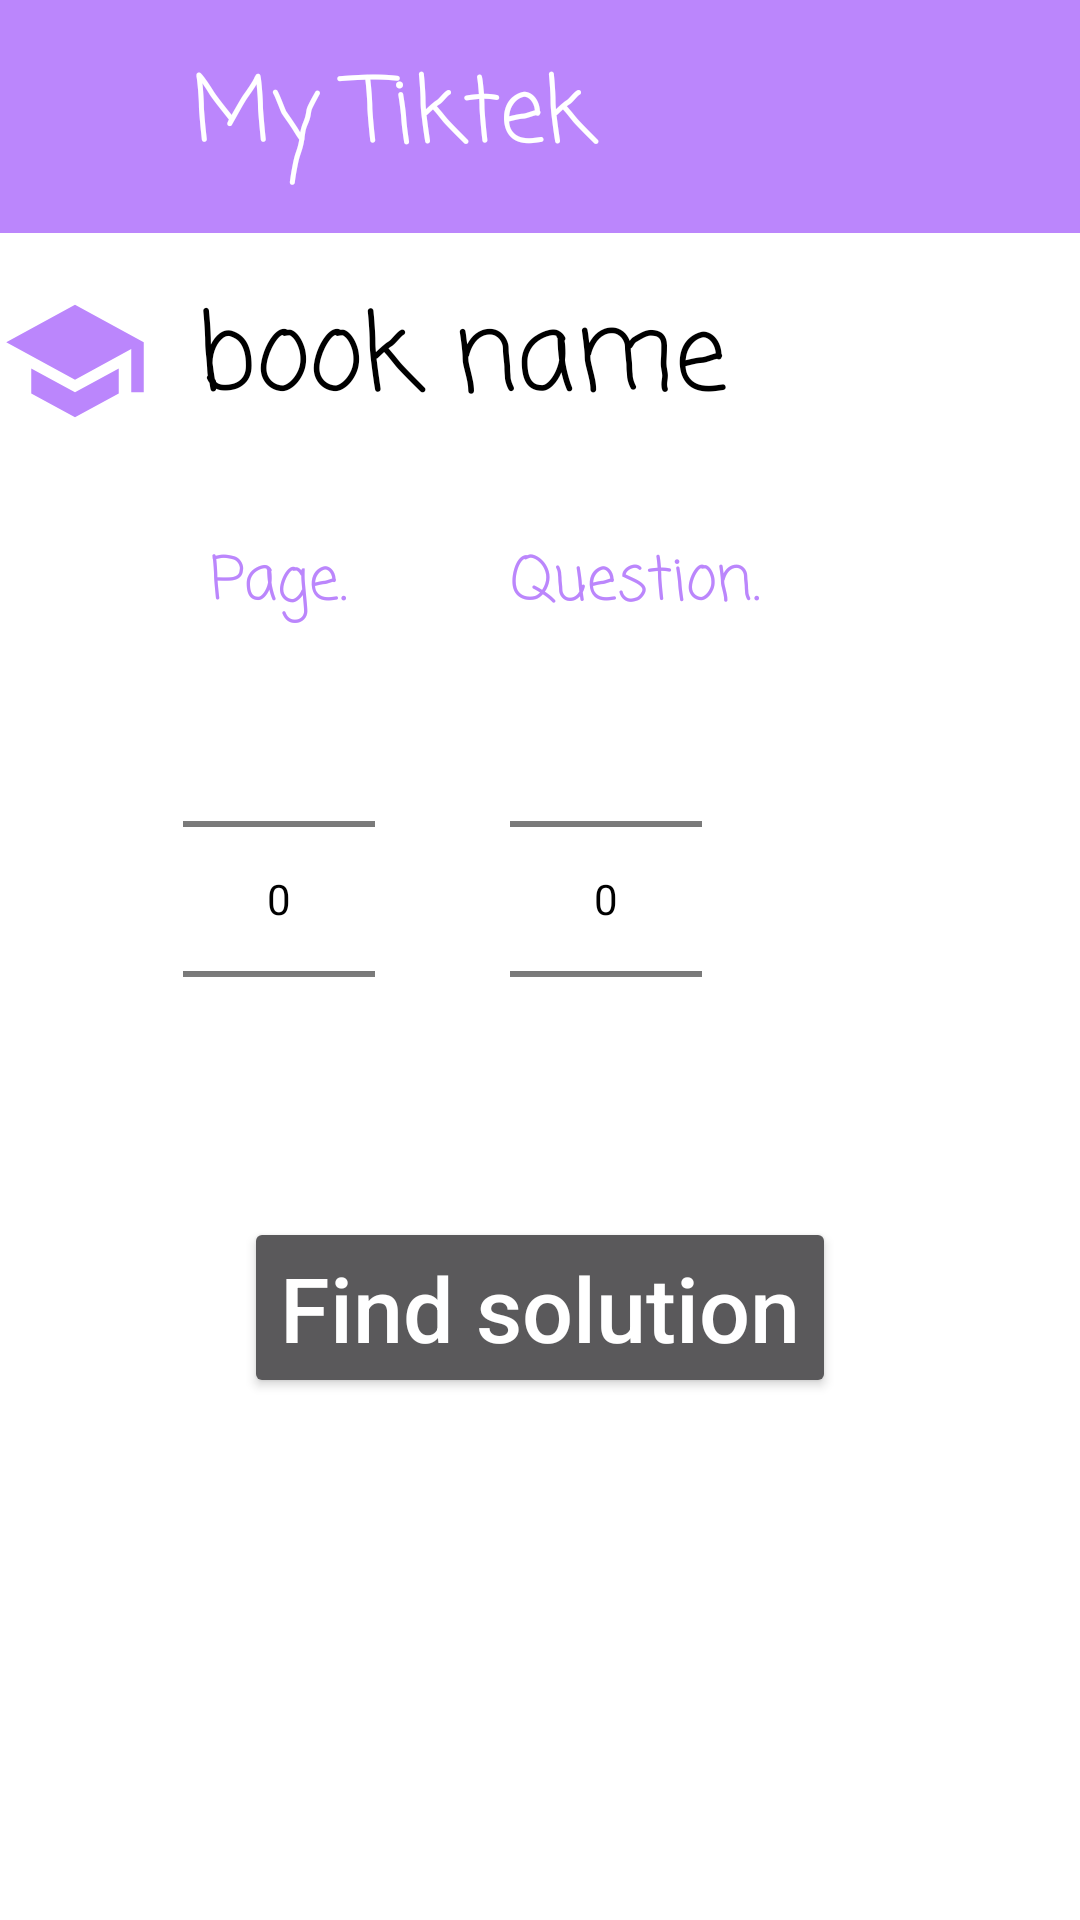

Point at icon controls on the screen. Image size 1080px×1920px, points as [x,y].
school: [75,361]
